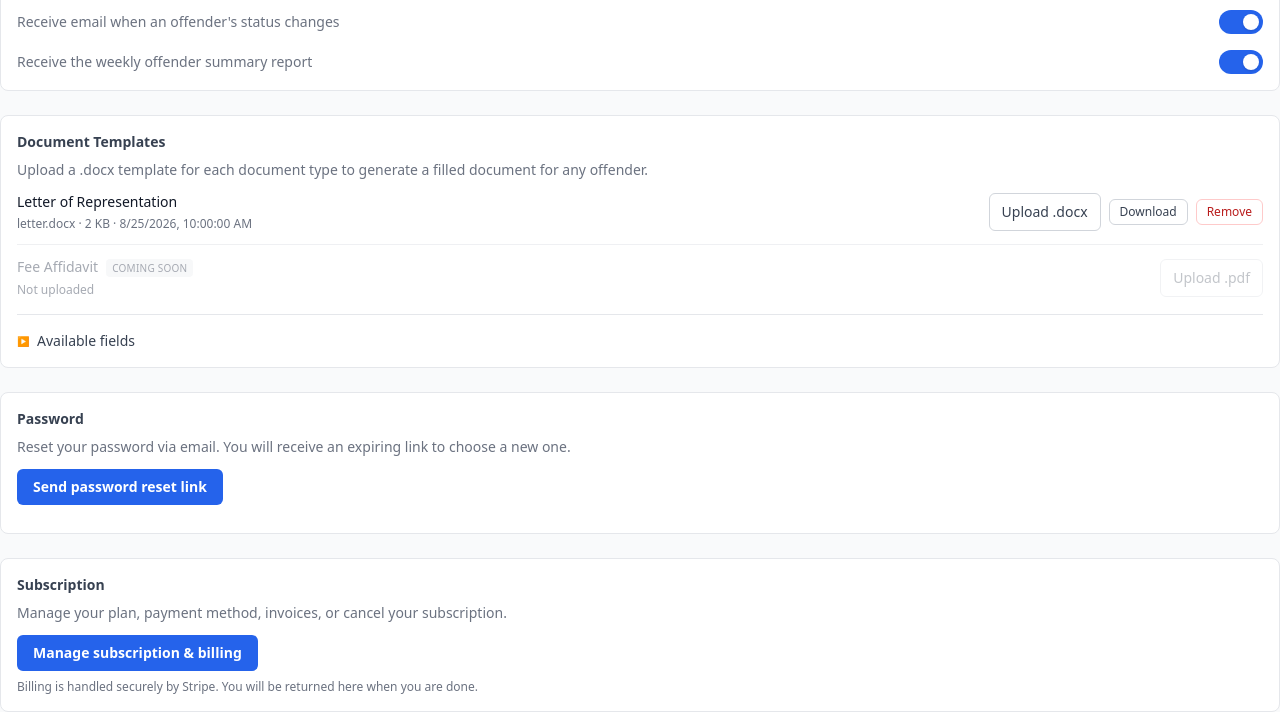
Scenario: Settings › shows an error banner when opening billing management fails
(page scrolled)
Click the button "Manage subscription & billing" at [137, 653], box [17,635,258,671]
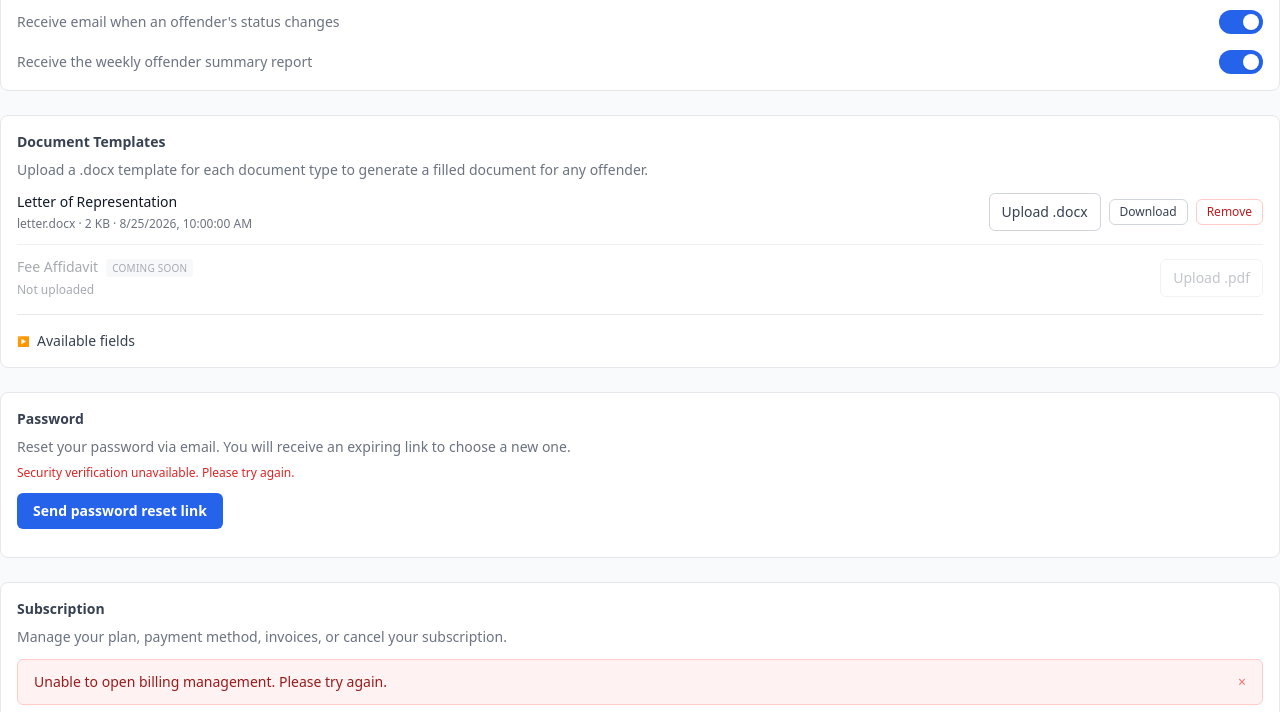
Expected: the message "Unable to open billing management. Please try again. ×" is shown, [17,659,1263,705]
